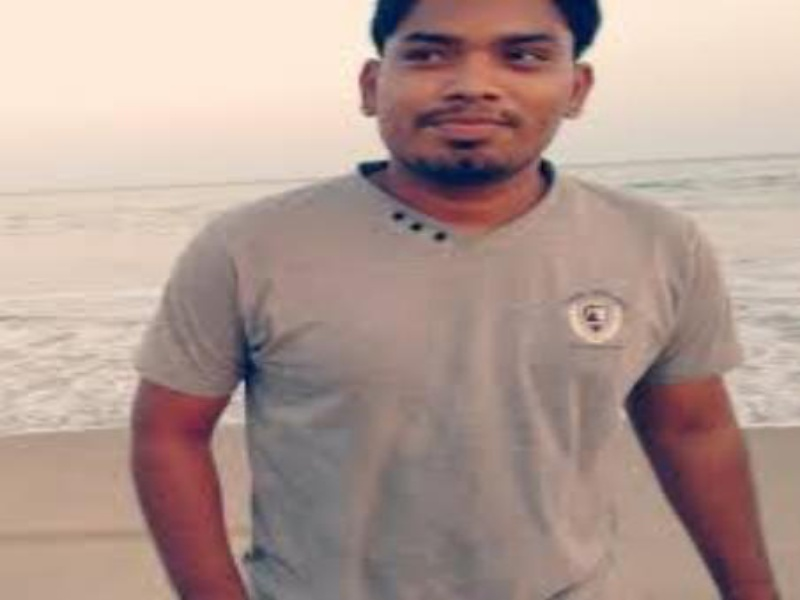TsisyArotava: (341, 1, 612, 204)
